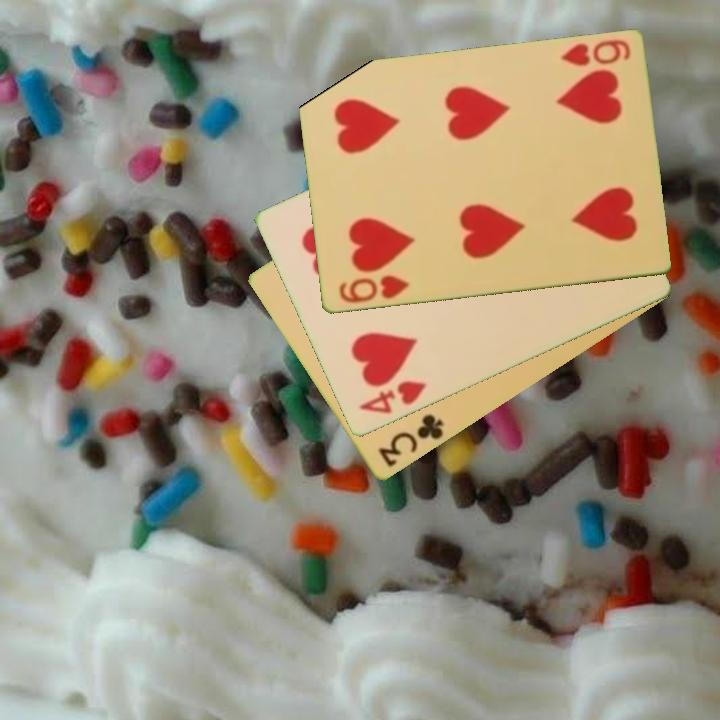3c: (374, 411, 448, 470)
4h: (356, 377, 430, 418)
6h: (335, 272, 412, 306), (556, 36, 633, 70)
